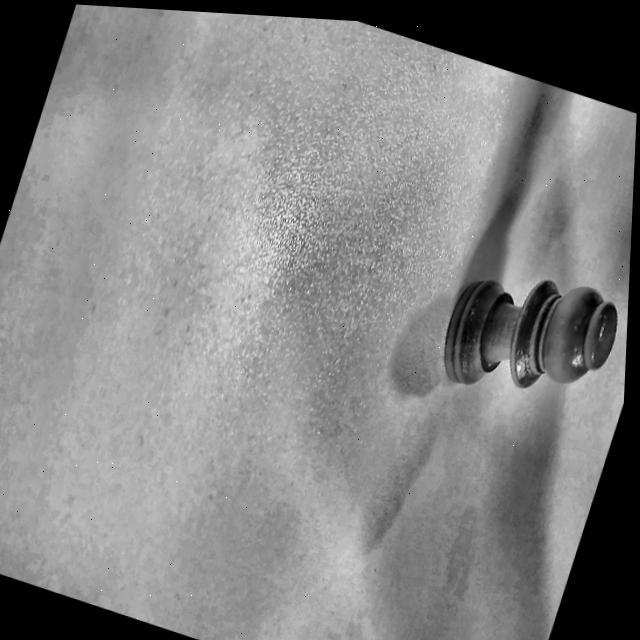black-bishop: (414, 227, 631, 451)
